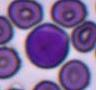L: (24, 22, 70, 68)
